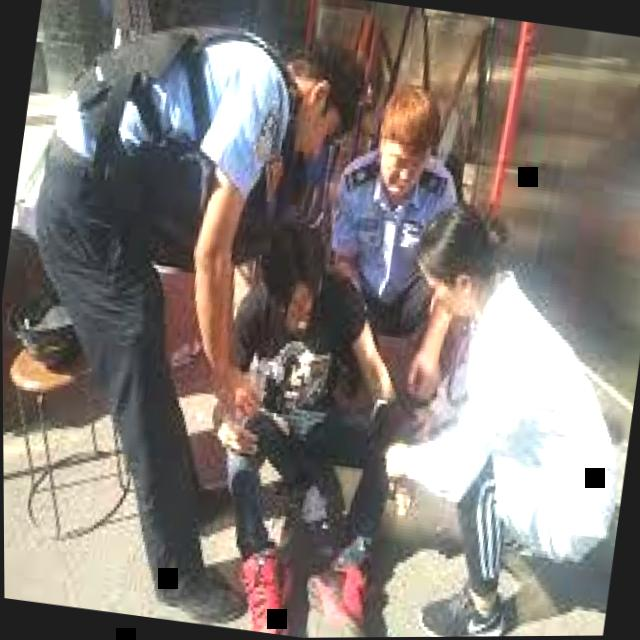Fall-Detected: (164, 180, 461, 639)
